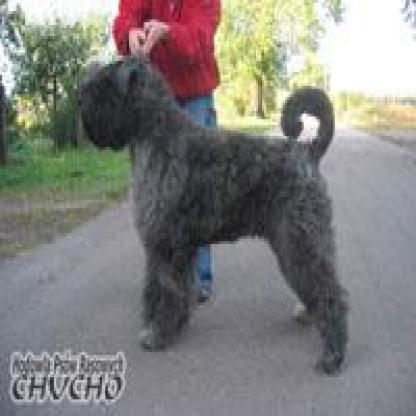Bouvier_des_Flandres: (75, 50, 349, 374)
